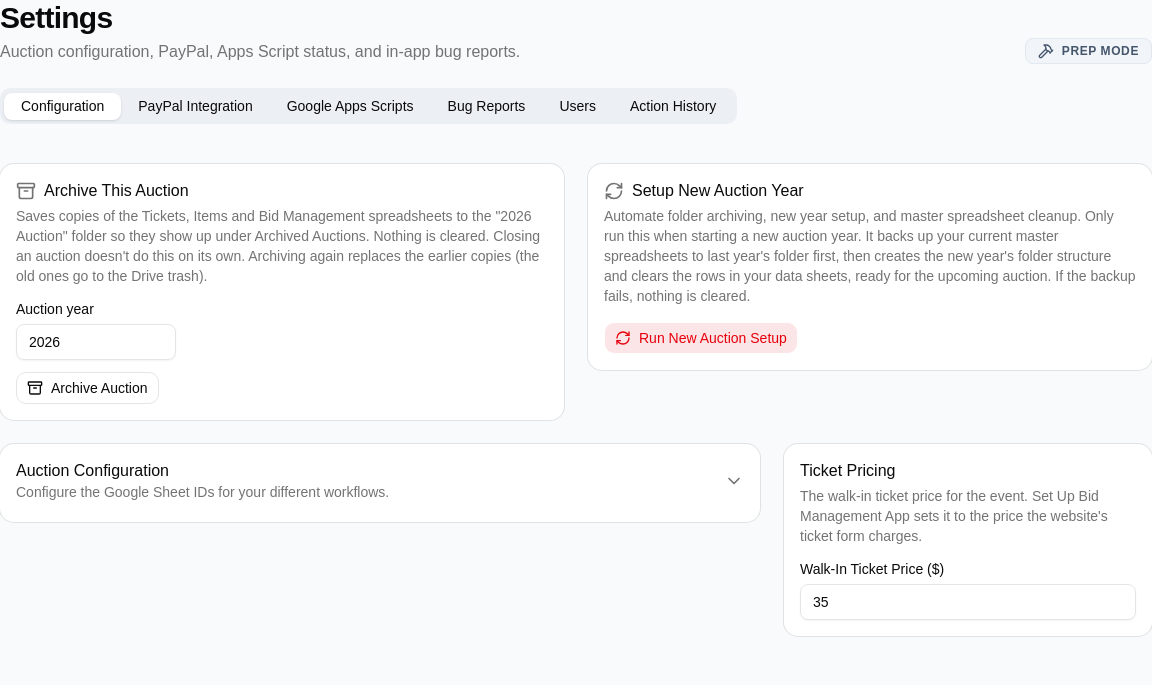
ConfigSettings › fields display current config values from useConfig
The width and height of the screenshot is (1152, 685).
Expected: the number field labelled "Walk-In Ticket Price ($)" holds "35", top-left (800, 584), bottom-right (1136, 620)
Click the button "Auction Configuration".
click(380, 483)  # box top-left (0, 460), bottom-right (760, 506)
(page scrolled)
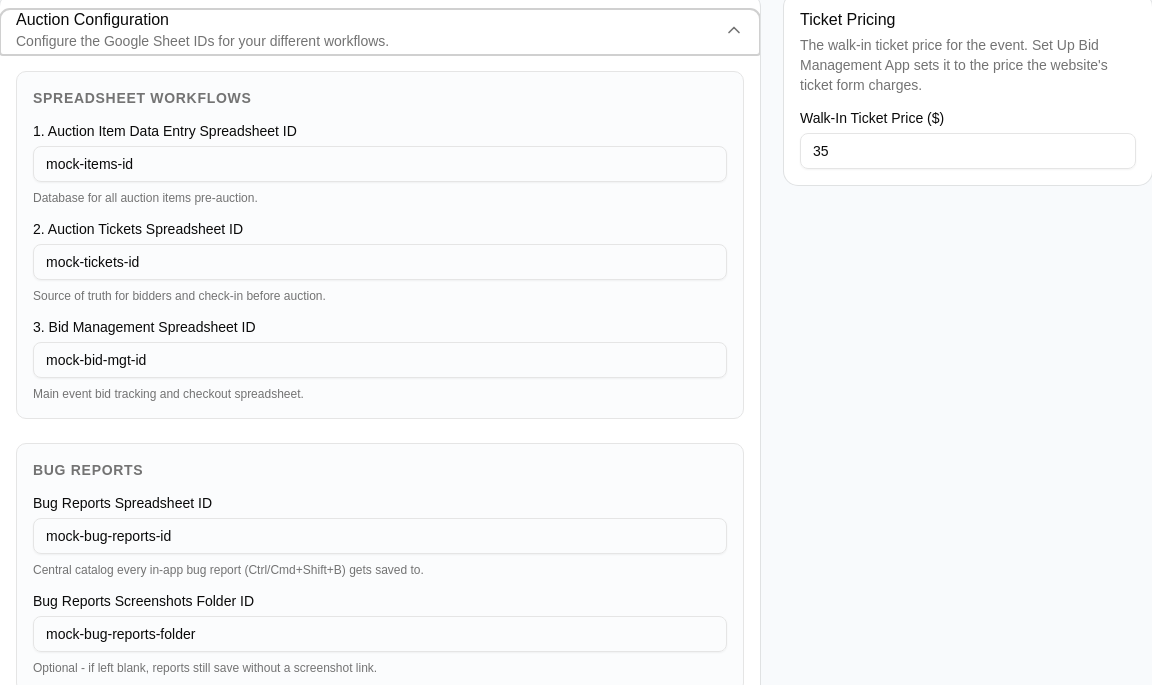
Expected: the field labelled "1. Auction Item Data Entry Spreadsheet ID" holds "mock-items-id", top-left (33, 146), bottom-right (727, 182)
Expected: the field labelled "2. Auction Tickets Spreadsheet ID" holds "mock-tickets-id", top-left (33, 244), bottom-right (727, 280)
Expected: the field labelled "3. Bid Management Spreadsheet ID" holds "mock-bid-mgt-id", top-left (33, 342), bottom-right (727, 378)
